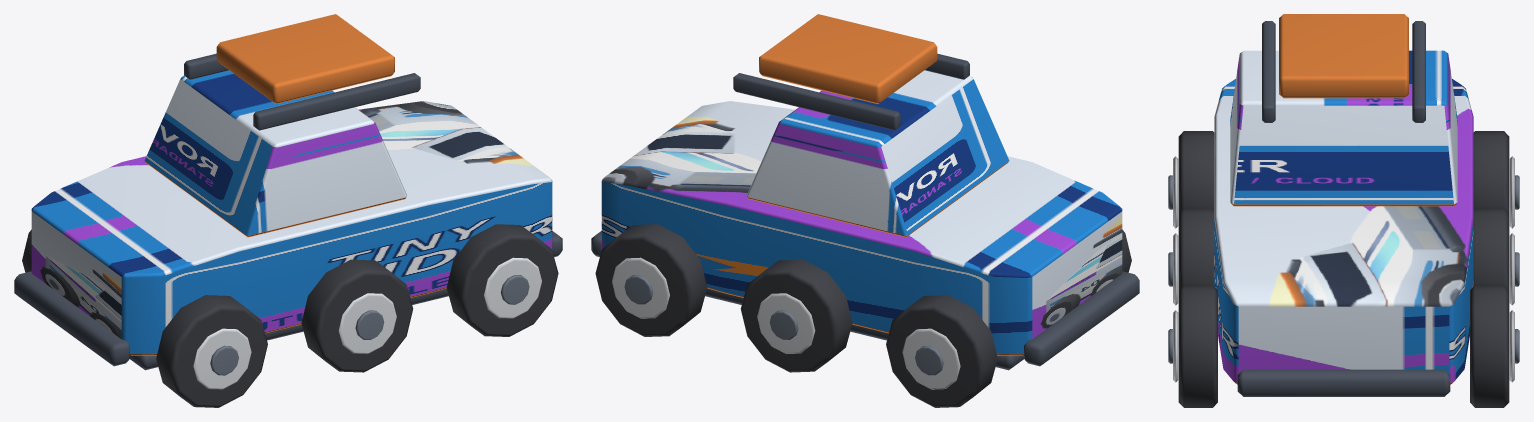
3 renders of one model, left to right at view 1: azimuth 30°, elevation 25°; view 2: azimuth 150°, elevation 25°; view 3: azimuth 270°, elevation 25°, orthographic. The views are drawn at different scales.
Parts seen in each view (by area): view 1: FF-04_connected_shell, FF-04_cabin, utility load, Tire, Tire.002, Tire.004, front bumper, utility rail, Rim, Rim.004, Rim.002, underbody (+4 smaller); view 2: FF-04_connected_shell, FF-04_cabin, utility load, Tire.001, Tire.003, Tire.005, front bumper, utility rail.001, Rim.001, Rim.005, Rim.003, underbody (+4 smaller); view 3: FF-04_connected_shell, FF-04_cabin, utility load, rear bumper, Tire.004, Tire.005, Tire.002, Tire.003, Tire, Tire.001, utility rail, utility rail.001 (+6 smaller).
Boxes of the visible parts, x1=… form: FF-04_connected_shell: x1=31, y1=101, x2=552, y2=355; FF-04_cabin: x1=144, y1=70, x2=406, y2=237; utility load: x1=216, y1=14, x2=394, y2=103; Tire: x1=156, y1=295, x2=267, y2=407; Tire.002: x1=301, y1=259, x2=413, y2=372; Tire.004: x1=446, y1=224, x2=558, y2=336; front bumper: x1=14, y1=271, x2=130, y2=366; utility rail: x1=253, y1=73, x2=420, y2=130; Rim: x1=193, y1=328, x2=251, y2=389; Rim.004: x1=484, y1=257, x2=541, y2=318; Rim.002: x1=338, y1=293, x2=396, y2=353; underbody: x1=130, y1=288, x2=448, y2=370; FF-04_connected_shell: x1=601, y1=101, x2=1122, y2=355; FF-04_cabin: x1=747, y1=70, x2=1009, y2=237; utility load: x1=759, y1=14, x2=937, y2=103; Tire.001: x1=886, y1=295, x2=997, y2=407; Tire.003: x1=740, y1=259, x2=852, y2=372; Tire.005: x1=595, y1=224, x2=707, y2=336; front bumper: x1=1023, y1=271, x2=1139, y2=366; utility rail.001: x1=733, y1=73, x2=900, y2=130; Rim.001: x1=902, y1=328, x2=960, y2=389; Rim.005: x1=612, y1=257, x2=669, y2=318; Rim.003: x1=757, y1=293, x2=815, y2=353; underbody: x1=705, y1=288, x2=1023, y2=370; FF-04_connected_shell: x1=1214, y1=79, x2=1473, y2=384; FF-04_cabin: x1=1230, y1=50, x2=1457, y2=206; utility load: x1=1279, y1=14, x2=1408, y2=98; rear bumper: x1=1237, y1=369, x2=1450, y2=396; Tire.004: x1=1178, y1=284, x2=1217, y2=407; Tire.005: x1=1470, y1=284, x2=1509, y2=407; Tire.002: x1=1178, y1=207, x2=1214, y2=289; Tire.003: x1=1473, y1=207, x2=1509, y2=289; Tire: x1=1178, y1=131, x2=1214, y2=212; Tire.001: x1=1473, y1=131, x2=1509, y2=212; utility rail: x1=1262, y1=21, x2=1275, y2=122; utility rail.001: x1=1412, y1=21, x2=1425, y2=122.
Bounding box in the file's own units: 378 × 212 × 233.
